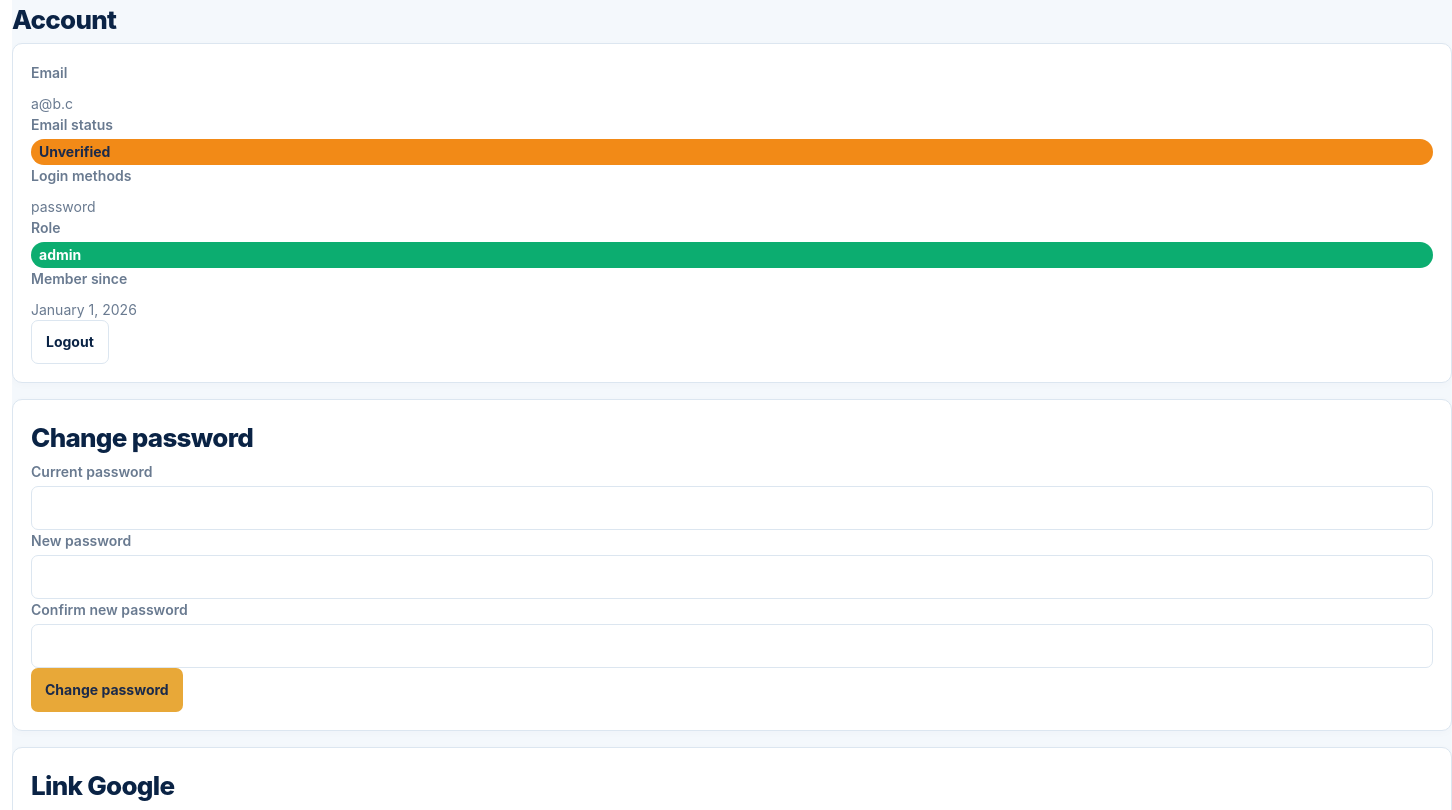
Scenario: AccountPage › shows a distinct message for a wrong current password
The width and height of the screenshot is (1452, 810).
Check: the text "a@b.c" is shown, box [31,95,73,112]
Type "wrong" into the password field labelled "Current password".
click(732, 508); type("wrong")  # box [31,486,1433,530]
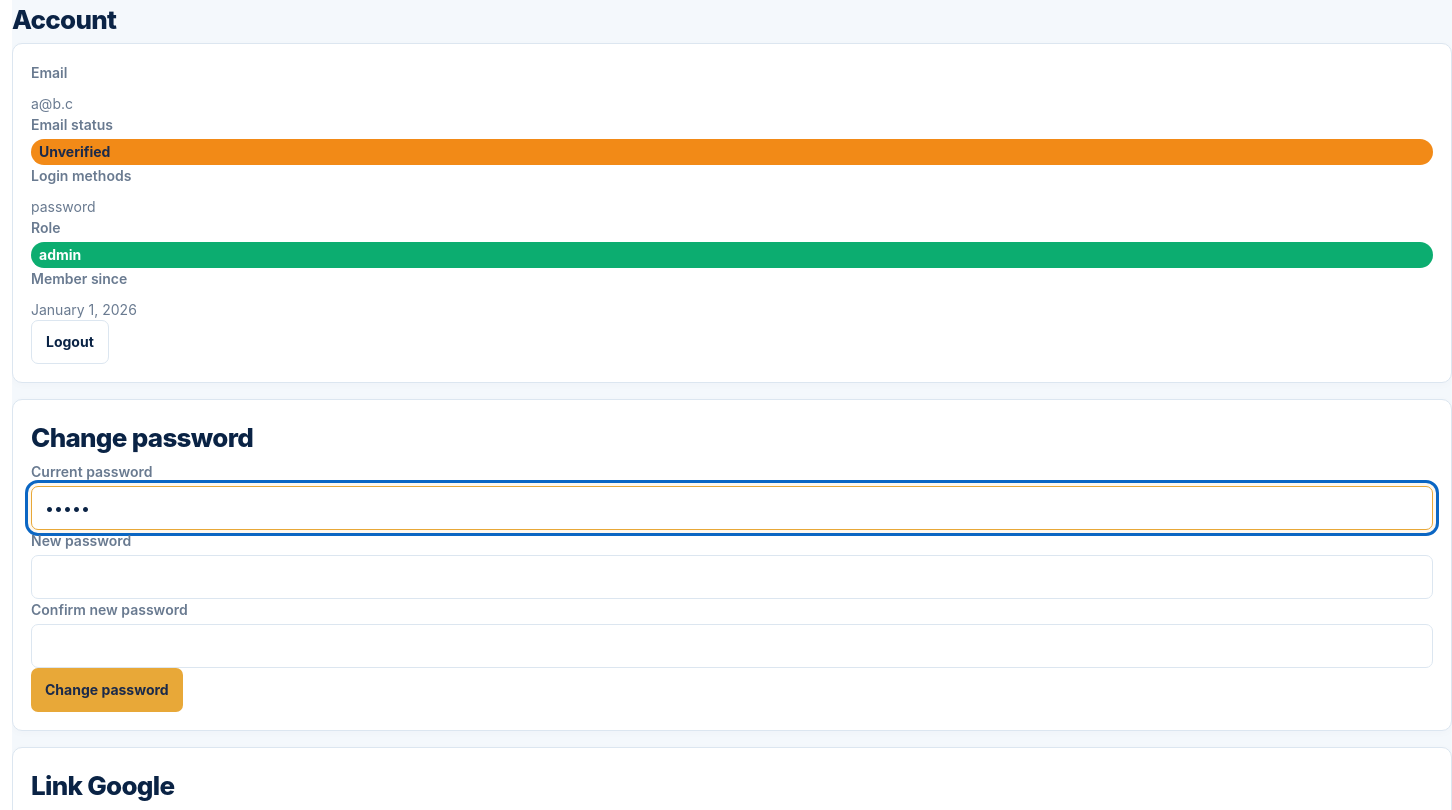
Type "new1" into the password field labelled "New password".
click(732, 577); type("new1")  # box [31,555,1433,599]
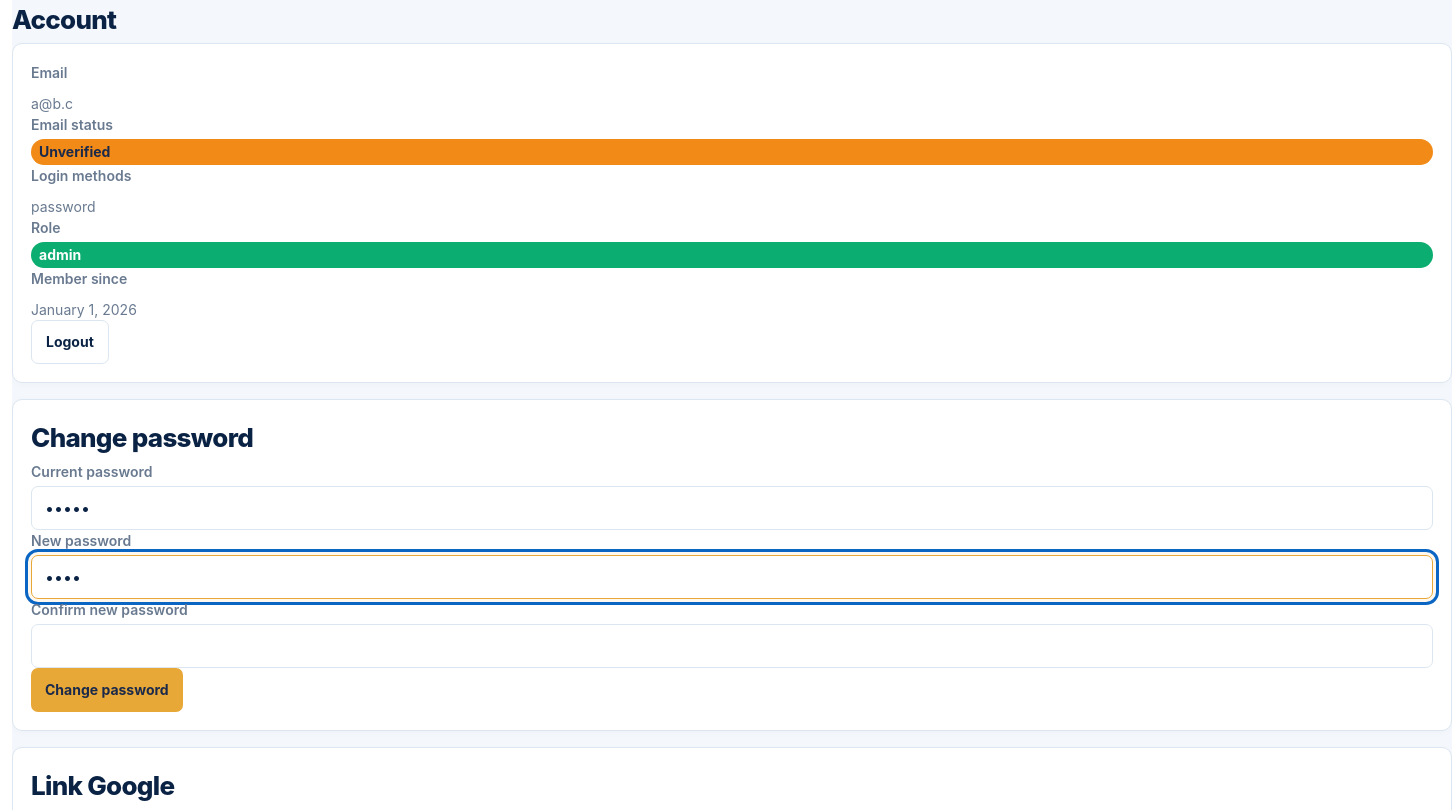
Type "new1" into the password field labelled "Confirm new password".
click(732, 646); type("new1")  # box [31,624,1433,668]
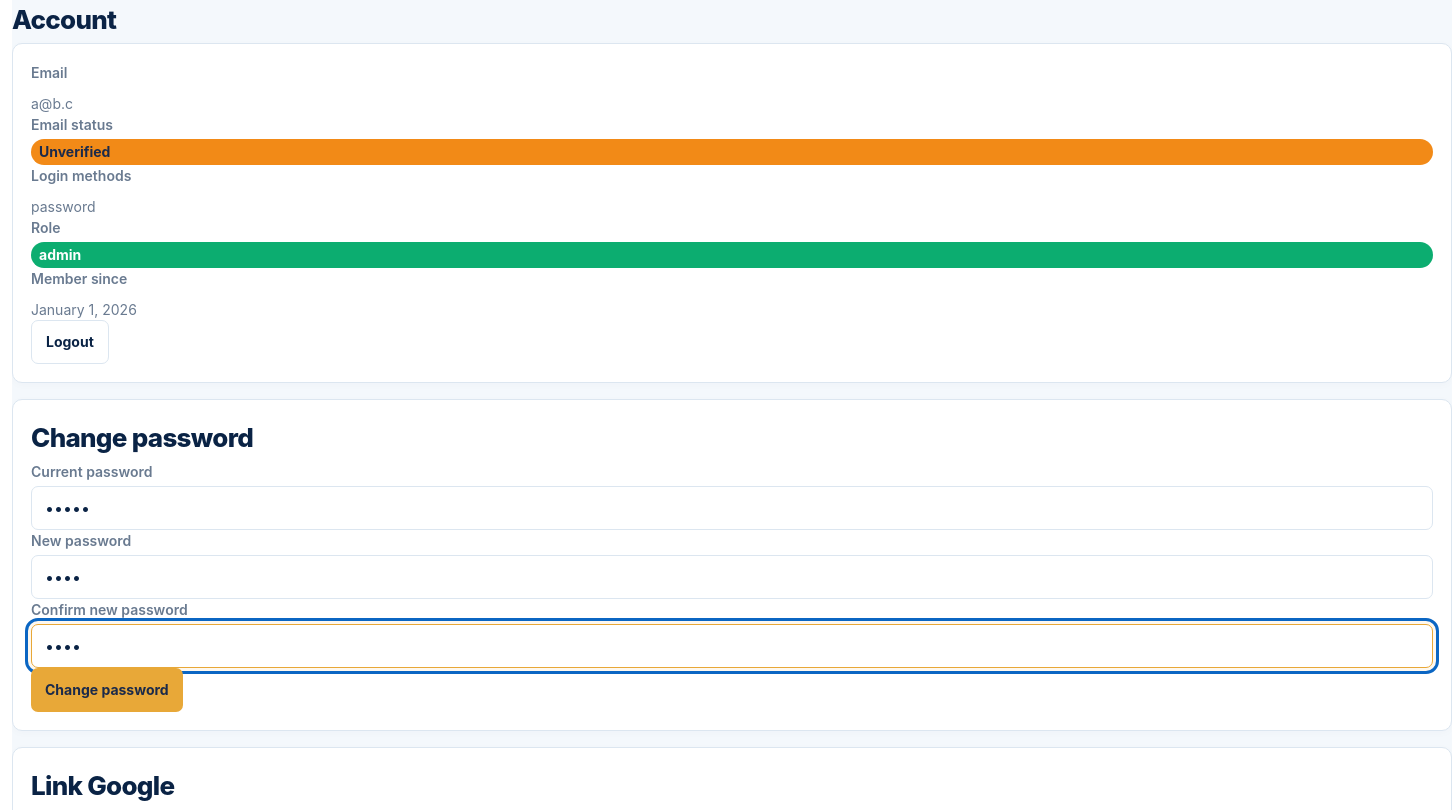
Click the button "Change password".
click(107, 690)  # box [31,668,183,712]
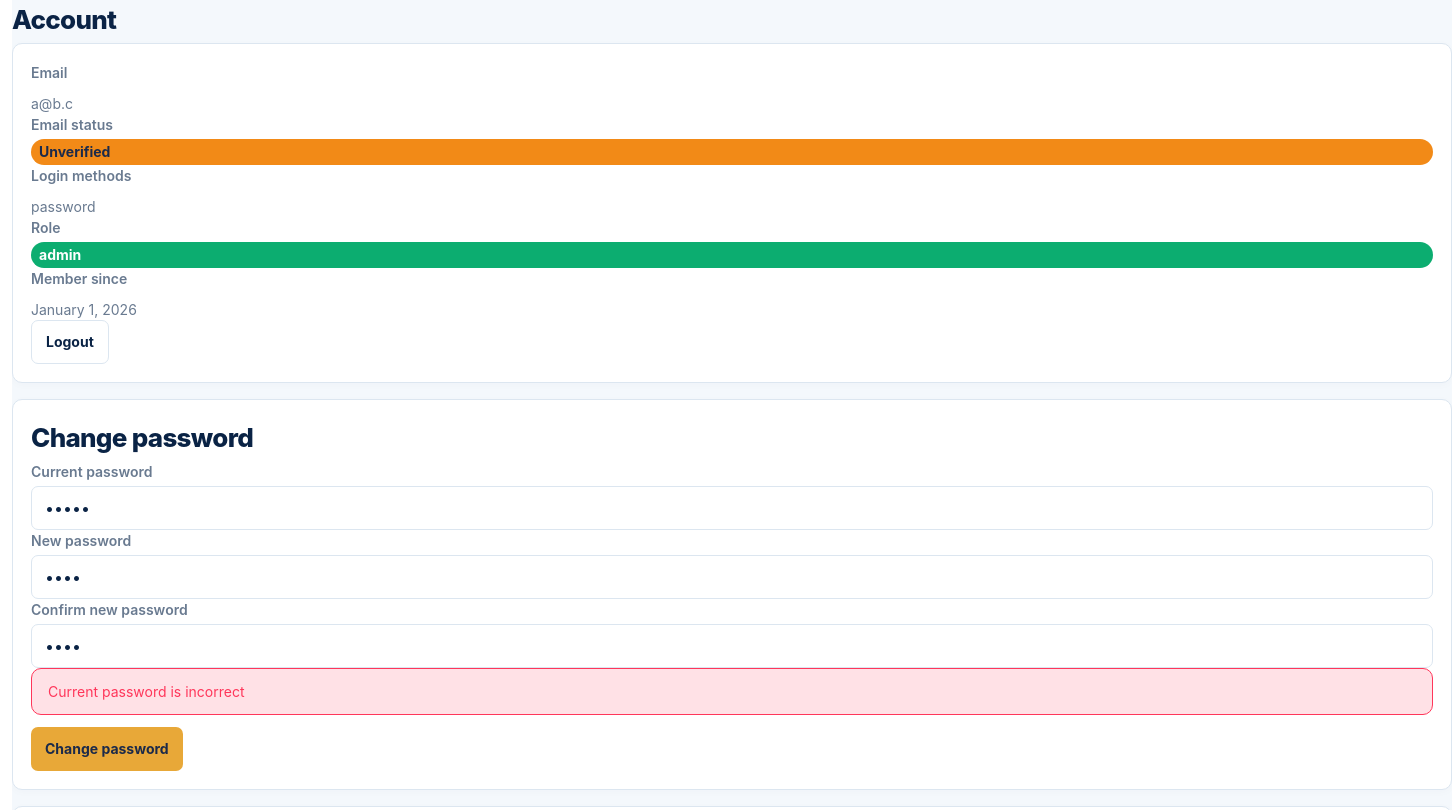
Check: the text "Current password is incorrect" is shown, box [31,668,1433,715]
